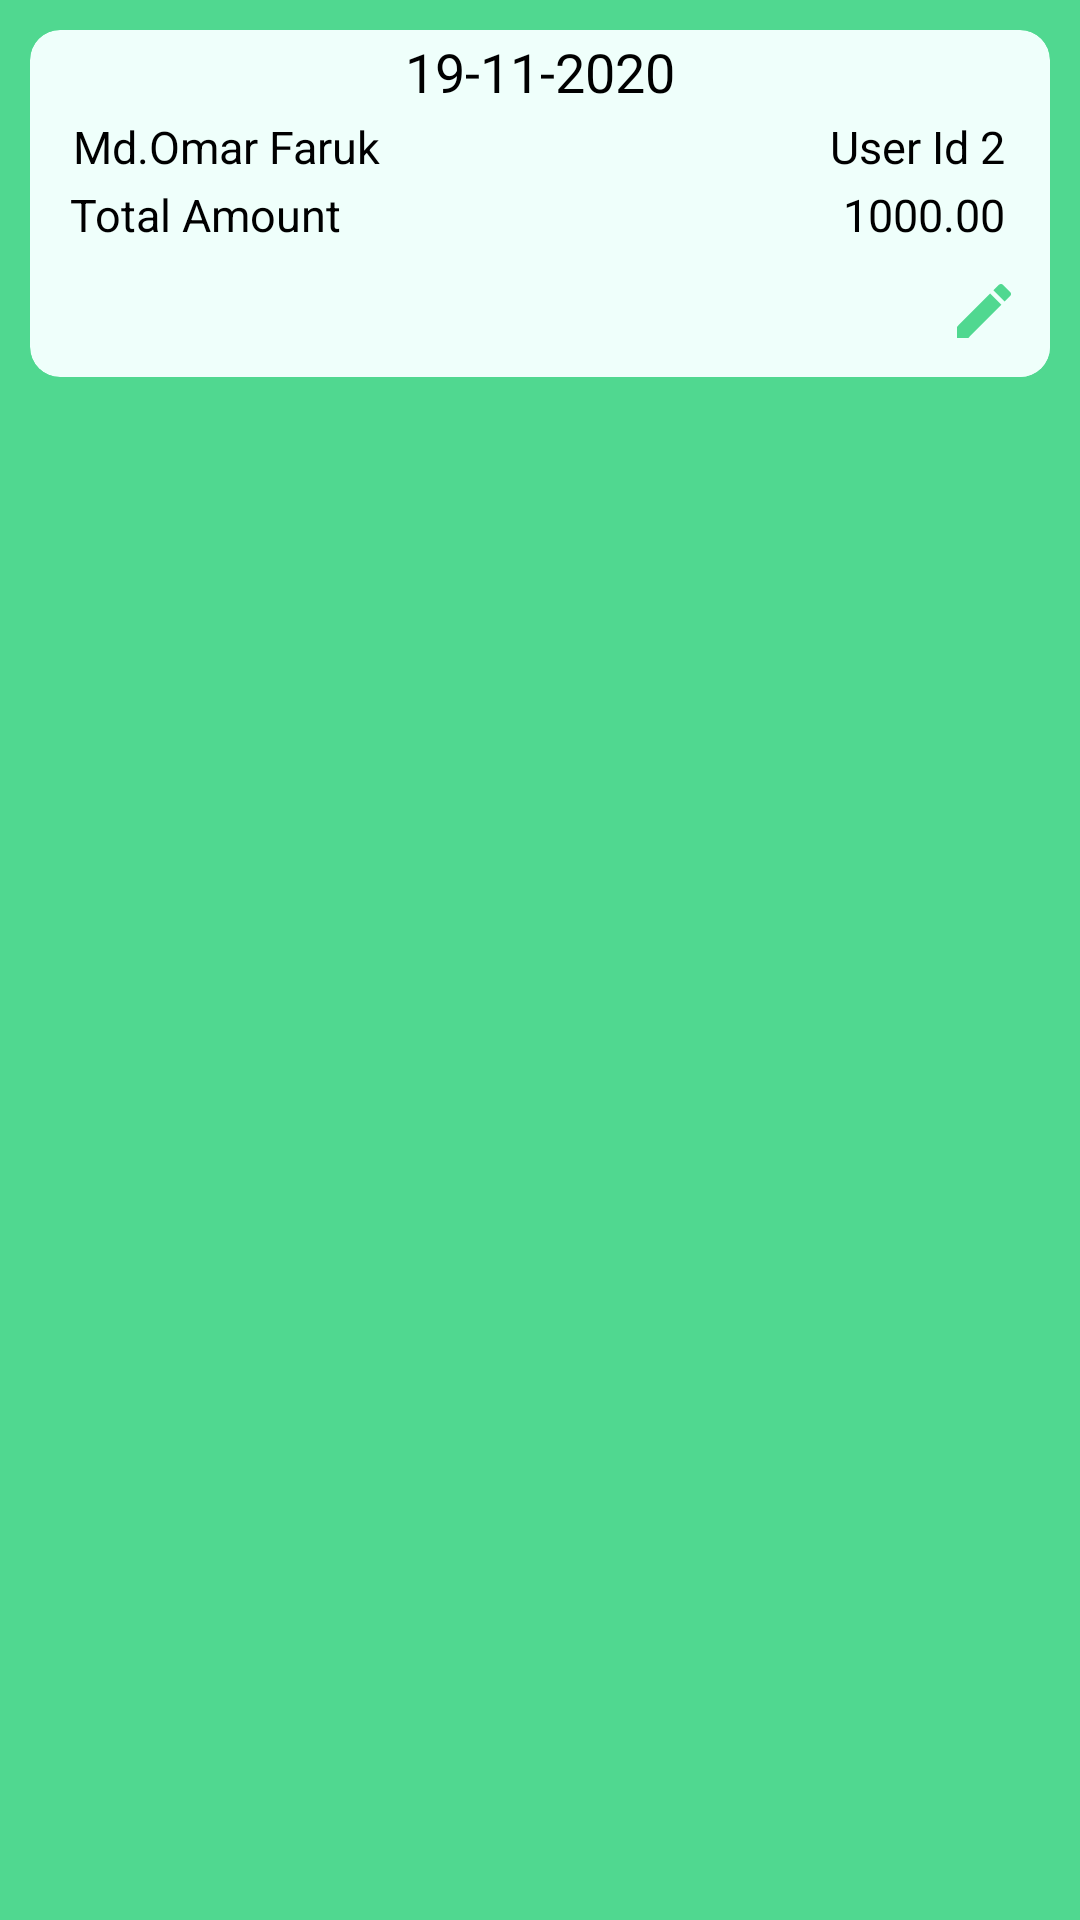

Icons on this 1080px x 1920px Android screen, each with the point to tap as (x,y):
mode edit: (984,311)
